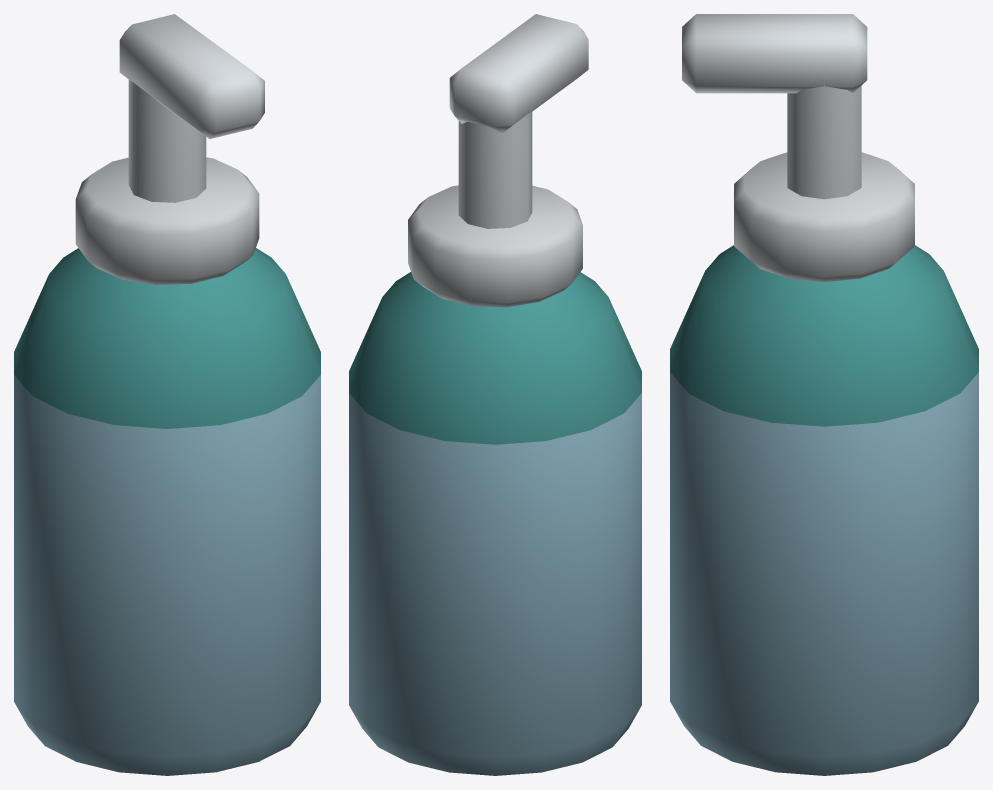
File: SoapDispenser_01.glb
3 renders of one model, left to right at view 1: azimuth 30°, elevation 25°; view 2: azimuth 150°, elevation 25°; view 3: azimuth 270°, elevation 25°, orthographic. The views are drawn at different scales.
Visible parts, largest first — view 1: SM_SoapDispenser_01; view 2: SM_SoapDispenser_01; view 3: SM_SoapDispenser_01.
Boxes of the visible parts, left/top/right/bottom form: SM_SoapDispenser_01: left=14, top=14, right=320, bottom=775; SM_SoapDispenser_01: left=349, top=14, right=641, bottom=775; SM_SoapDispenser_01: left=670, top=14, right=978, bottom=775.
Size of the model in its own units: 0.088 by 0.214 by 0.0867.
Materials: 1 (1 with a texture image).
